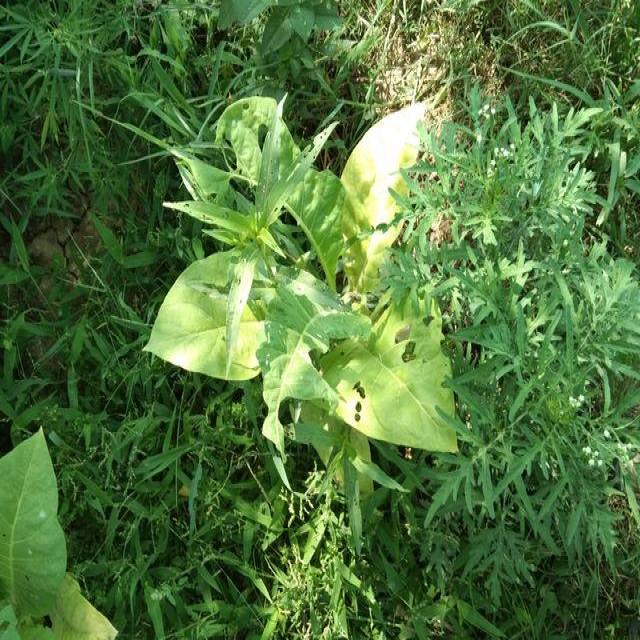crop: (166, 106, 460, 458), (0, 438, 113, 640)
